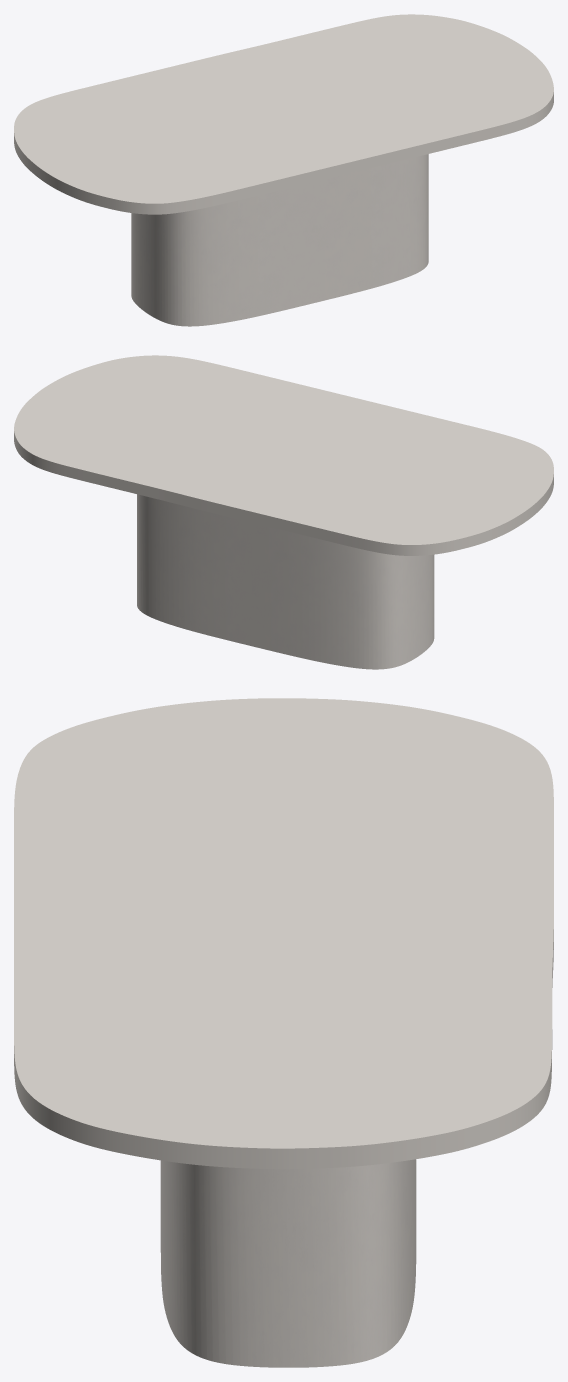
The model's file is pearlwhite_oval_standard_fixed.glb.
3 renders of one model, top to bottom at view 1: azimuth 30°, elevation 25°; view 2: azimuth 150°, elevation 25°; view 3: azimuth 270°, elevation 25°, orthographic. The views are drawn at different scales.
Parts seen in each view (by area): view 1: standard_oval, fixed; view 2: standard_oval, fixed; view 3: standard_oval, fixed.
Part boxes in pixels (bbox=[...]): standard_oval: bbox=[14, 14, 553, 214]; fixed: bbox=[131, 154, 428, 326]; standard_oval: bbox=[14, 355, 553, 555]; fixed: bbox=[137, 494, 434, 669]; standard_oval: bbox=[14, 698, 553, 1169]; fixed: bbox=[160, 1159, 416, 1367].
Bounding box in the file's own units: 7.5 × 2.5 × 3.8.
Materials: 1 (1 with a texture image).
